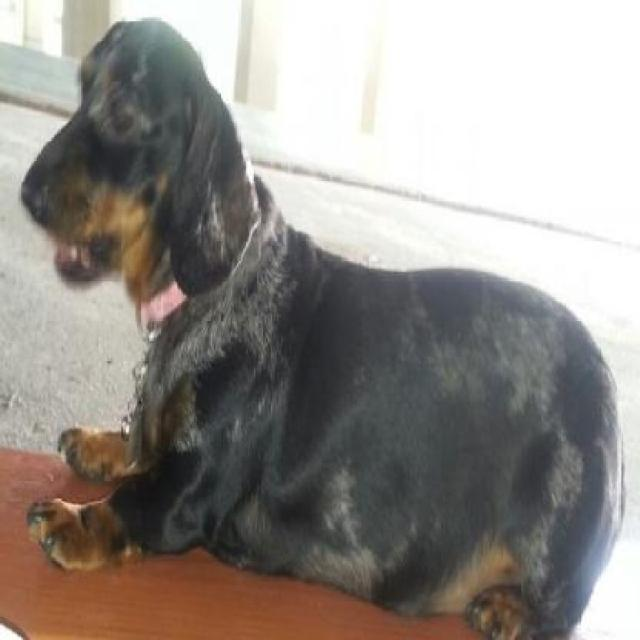Dog: (17, 12, 626, 638)
